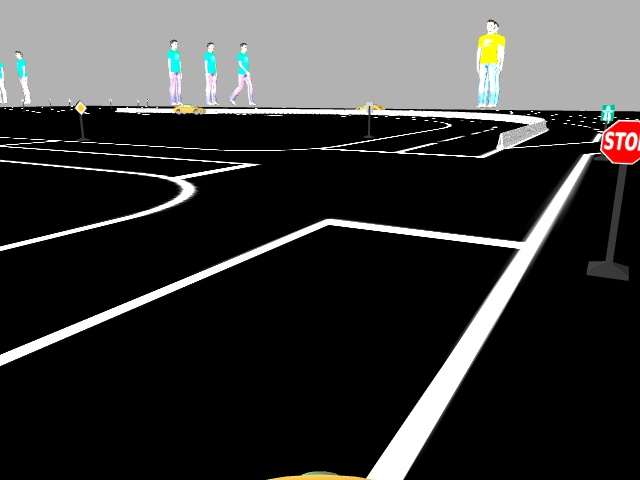Stop: (601, 115, 639, 165)
